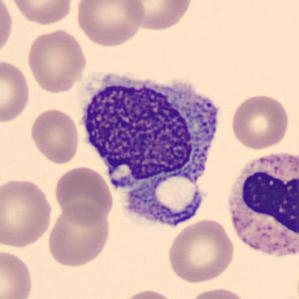Monocyte: (76, 63, 224, 223)
Neutrophil: (221, 147, 299, 267)
RBC: (164, 217, 237, 285), (45, 202, 112, 268), (25, 27, 89, 94), (0, 176, 54, 249), (52, 165, 115, 224), (228, 92, 291, 151), (74, 0, 146, 49), (28, 107, 82, 166), (121, 0, 195, 32), (0, 58, 32, 124), (0, 246, 35, 299), (6, 0, 76, 26), (184, 286, 252, 299), (0, 0, 14, 58), (116, 287, 181, 299)
